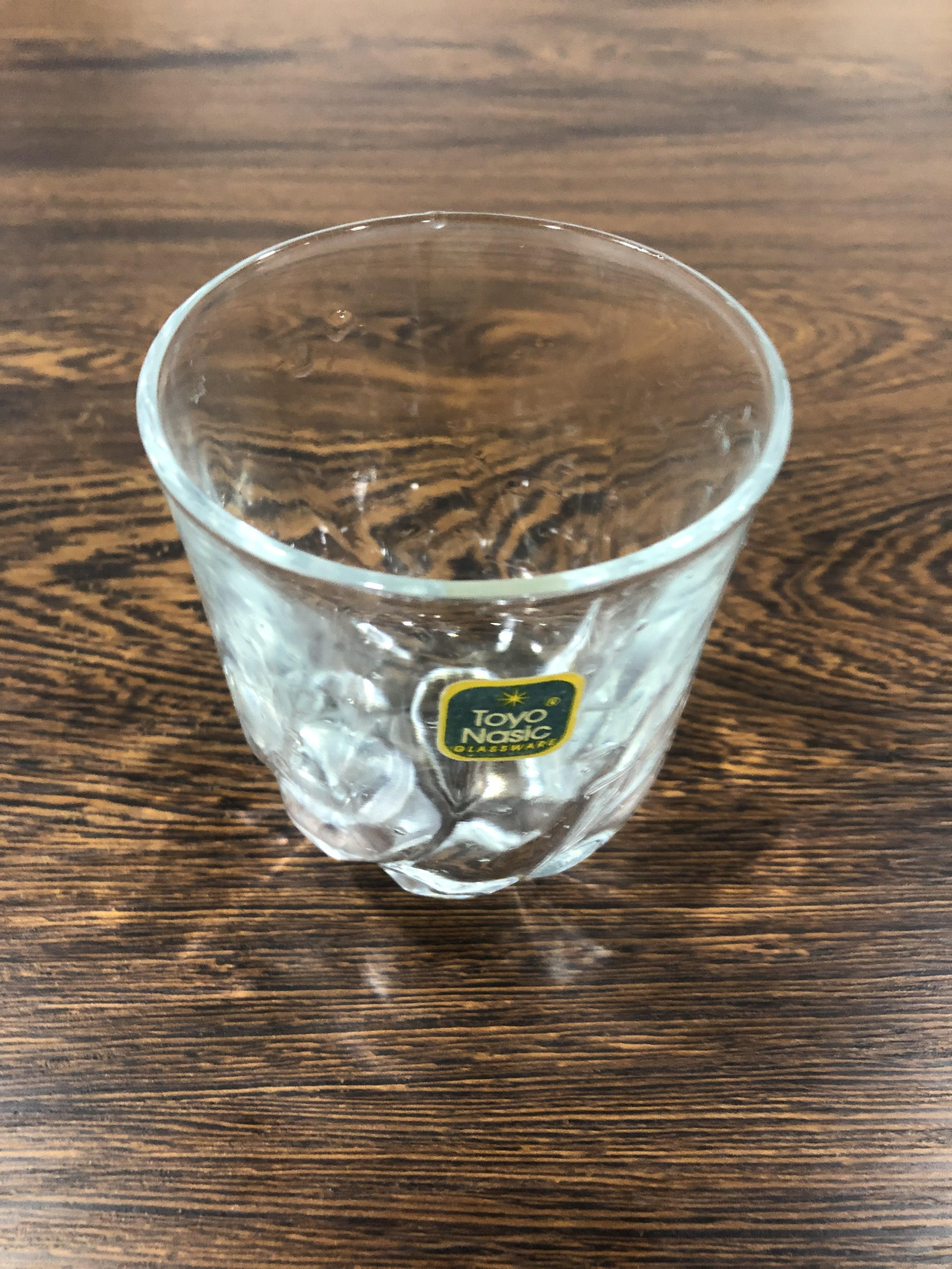glass-normal: (133, 204, 803, 909)
